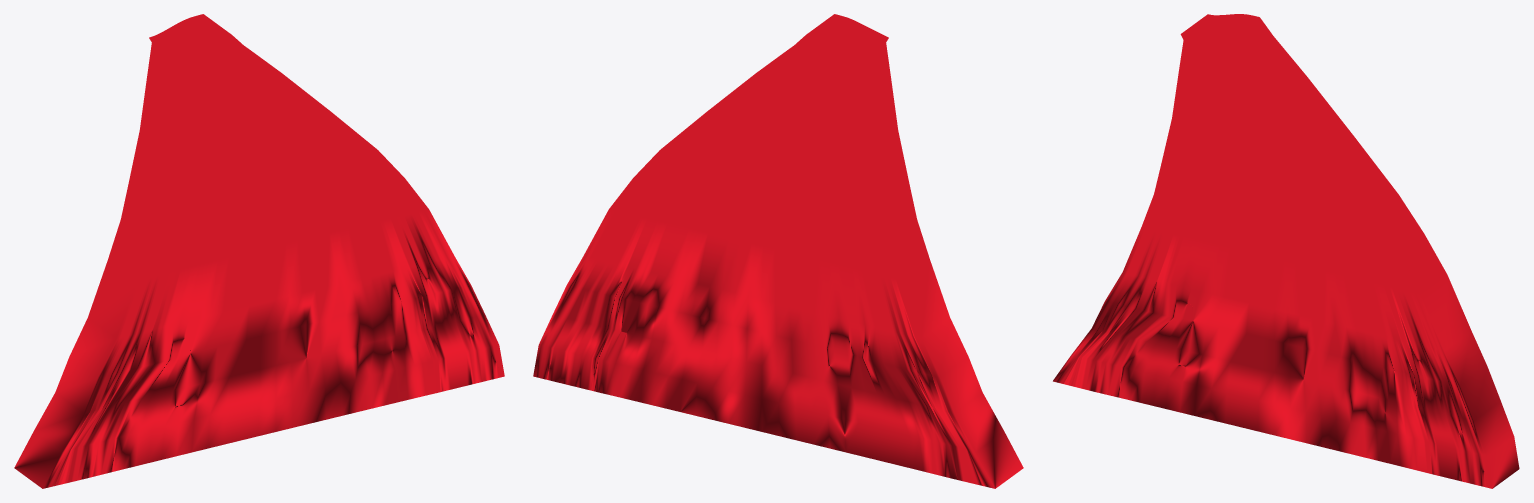
Rendered from triangle_shapekey.fbx.
3 views of the same model, side by side, from view 1: azimuth 30°, elevation 25°; view 2: azimuth 150°, elevation 25°; view 3: azimuth 330°, elevation 25° (orthographic). The views are drawn at different scales.
Visible parts, largest first — view 1: triangle.001; view 2: triangle.001; view 3: triangle.001.
Part boxes in pixels (bbox=[...]): triangle.001: bbox=[14, 14, 504, 488]; triangle.001: bbox=[533, 14, 1023, 488]; triangle.001: bbox=[1053, 14, 1519, 488].
Size of the model in its own units: 223 by 189 by 23.88.
